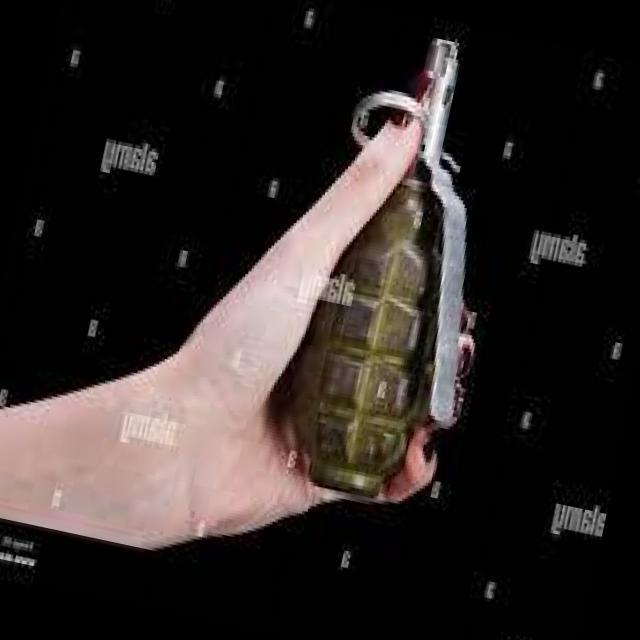grenade: (253, 17, 538, 532)
